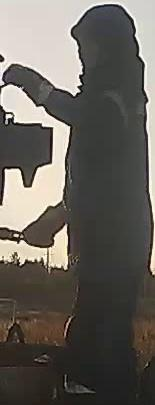gloves: (3, 63, 55, 107), (22, 205, 64, 249)
helmet: (69, 4, 139, 42)
vest: (62, 79, 151, 254)
